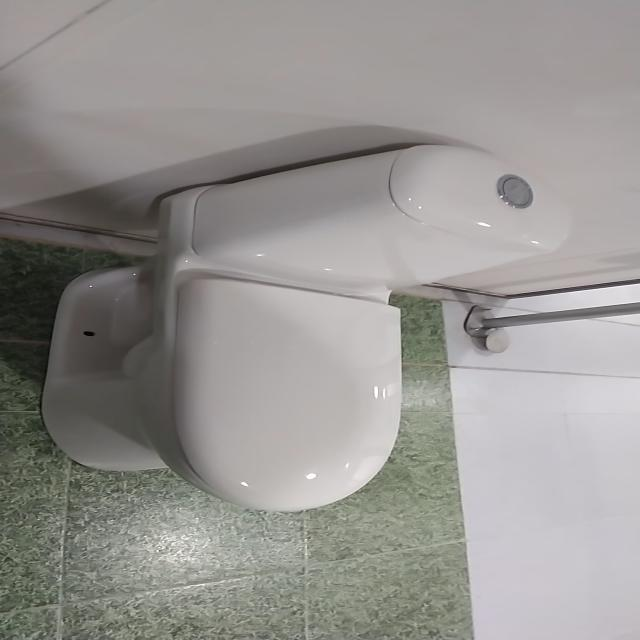toilet: (39, 143, 570, 512)
